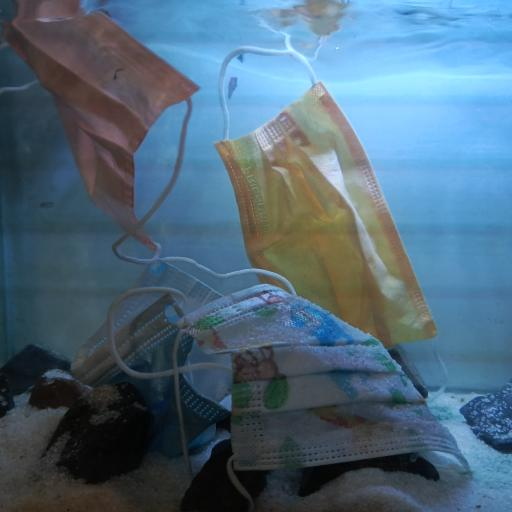mask: (212, 46, 450, 403), (105, 283, 469, 512), (0, 0, 202, 267), (69, 256, 298, 460)
